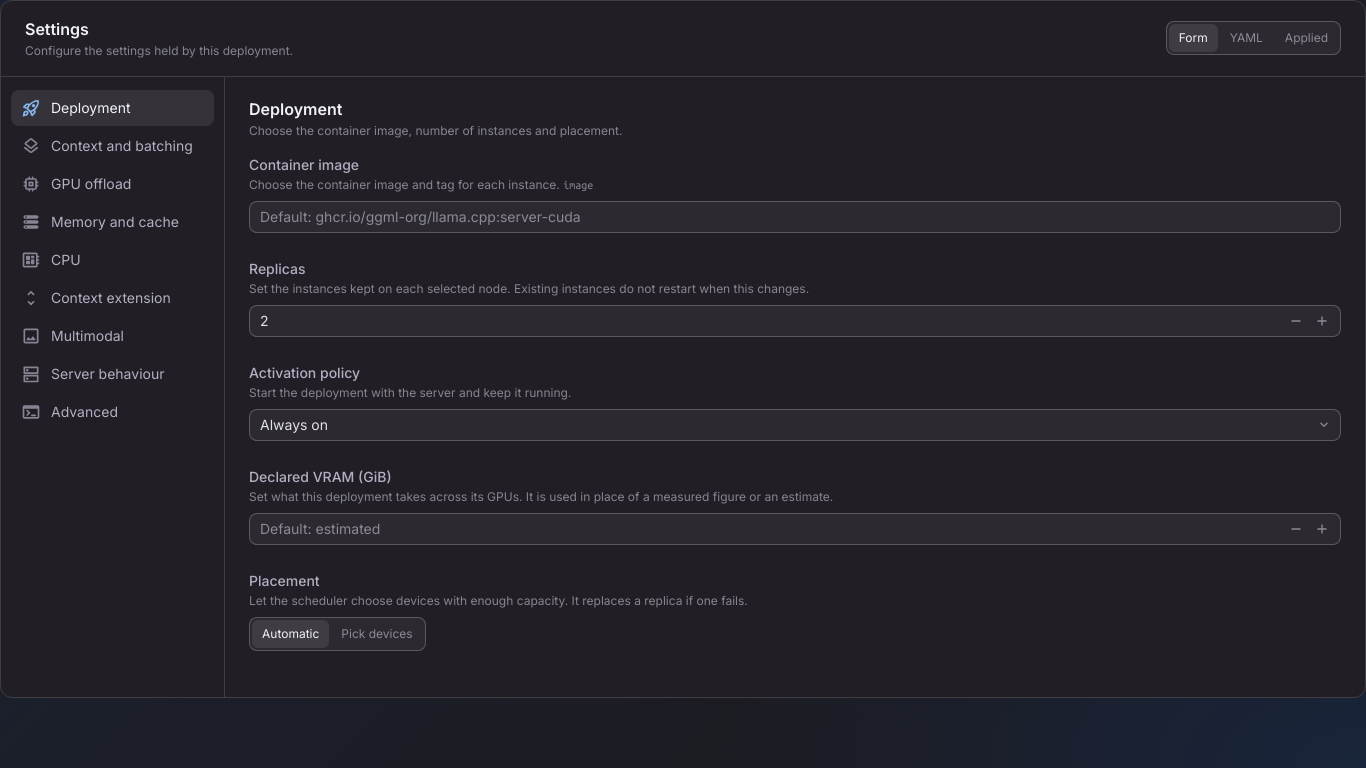
MfConfigurationEditor › shows the applied configuration in its own view
The image size is (1366, 768).
Click the radio button labelled "Applied". click: (1306, 38)
box: [1275,24,1338,52]
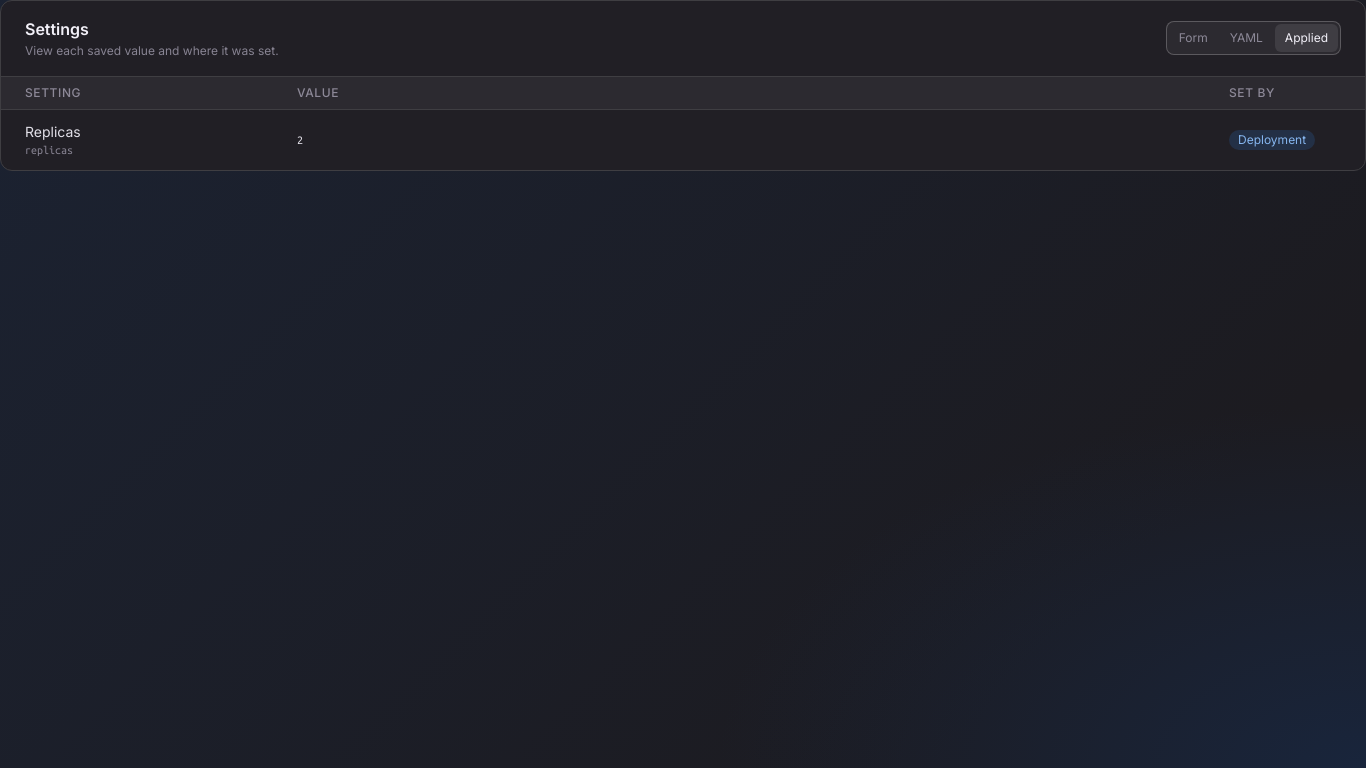
Check: the element with test id "effective-entry" shows "Replicas", box [25,122,81,140]
